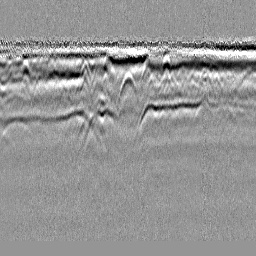cavity: (116, 70, 141, 108)
